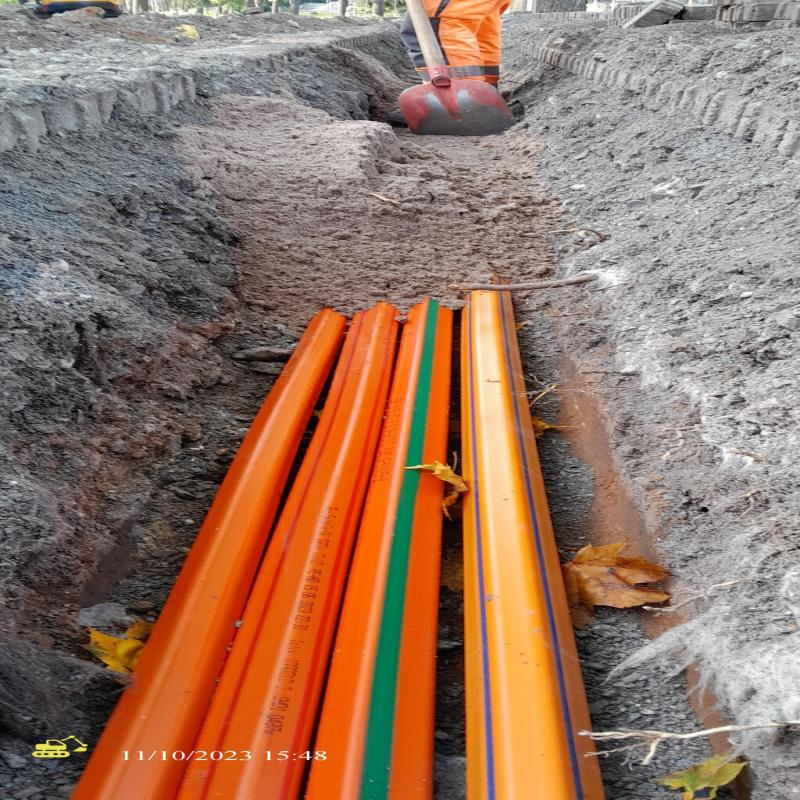Orang-Speednetrohrchen: (72, 310, 338, 800), (180, 306, 395, 800), (312, 302, 456, 800), (460, 292, 599, 800)
